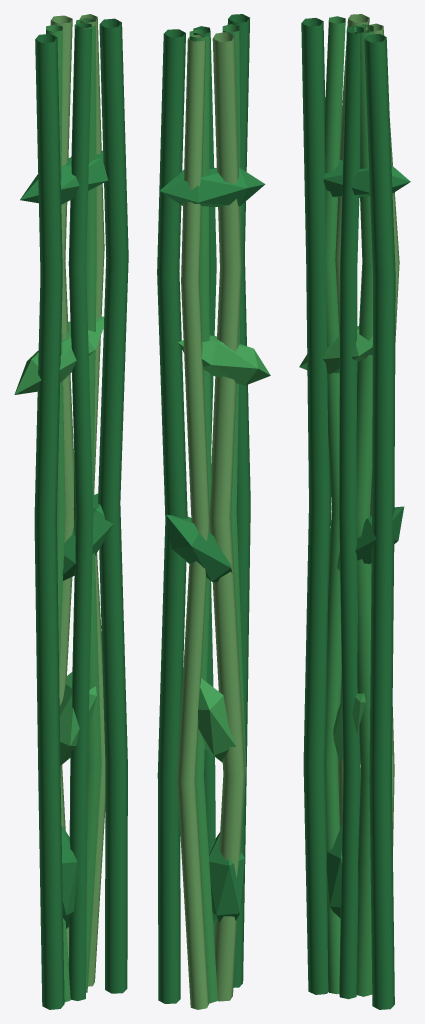
File: spinach.glb
3 views of the same model, side by side, from view 1: azimuth 30°, elevation 25°; view 2: azimuth 210°, elevation 25°; view 3: azimuth 330°, elevation 25° (orthographic).
Visible parts, largest first — view 1: spinach_strand_0, spinach_strand_6, spinach_strand_3, spinach_strand_4, spinach_strand_2, spinach_strand_5, spinach_strand_1, wilted_leaf_3, wilted_leaf_4, wilted_leaf_1, wilted_leaf_2, wilted_leaf_0; view 2: spinach_strand_6, spinach_strand_2, spinach_strand_5, spinach_strand_0, spinach_strand_4, spinach_strand_3, spinach_strand_1, wilted_leaf_4, wilted_leaf_2, wilted_leaf_3, wilted_leaf_0, wilted_leaf_1; view 3: spinach_strand_6, spinach_strand_0, spinach_strand_3, spinach_strand_1, spinach_strand_4, spinach_strand_2, wilted_leaf_4, spinach_strand_5, wilted_leaf_0, wilted_leaf_3, wilted_leaf_2, wilted_leaf_1.
Part boxes in pixels (box(x1,y1,x2,y2)): spinach_strand_0: box(34, 34, 64, 1009); spinach_strand_6: box(98, 18, 128, 993); spinach_strand_3: box(68, 22, 93, 1000); spinach_strand_4: box(73, 18, 101, 992); spinach_strand_2: box(50, 15, 74, 961); spinach_strand_5: box(79, 14, 105, 986); spinach_strand_1: box(46, 24, 70, 1002); wilted_leaf_3: box(14, 316, 104, 394); wilted_leaf_4: box(20, 150, 125, 204); wilted_leaf_1: box(59, 672, 97, 765); wilted_leaf_2: box(62, 493, 113, 580); wilted_leaf_0: box(61, 826, 77, 928); spinach_strand_6: box(157, 29, 187, 1003); spinach_strand_2: box(209, 32, 245, 1001); spinach_strand_5: box(177, 34, 209, 1009); spinach_strand_0: box(227, 14, 250, 987); spinach_strand_4: box(189, 29, 217, 1003); spinach_strand_3: box(193, 26, 216, 938); spinach_strand_1: box(222, 24, 246, 828); wilted_leaf_4: box(160, 168, 265, 206); wilted_leaf_2: box(166, 514, 232, 582); wilted_leaf_3: box(177, 335, 270, 385); wilted_leaf_0: box(209, 832, 244, 923); wilted_leaf_1: box(198, 678, 236, 762); spinach_strand_6: box(364, 33, 395, 1009); spinach_strand_0: box(301, 18, 331, 994); spinach_strand_3: box(339, 25, 364, 999); spinach_strand_1: box(325, 16, 345, 994); spinach_strand_4: box(354, 24, 373, 996); spinach_strand_2: box(335, 14, 369, 826); wilted_leaf_4: box(323, 160, 410, 197); spinach_strand_5: box(365, 23, 399, 846); wilted_leaf_0: box(326, 825, 342, 917); wilted_leaf_3: box(299, 326, 372, 373); wilted_leaf_2: box(337, 506, 404, 570); wilted_leaf_1: box(333, 693, 365, 761).
Size of the model in its own units: 0.1139 by 0.9411 by 0.0487.
